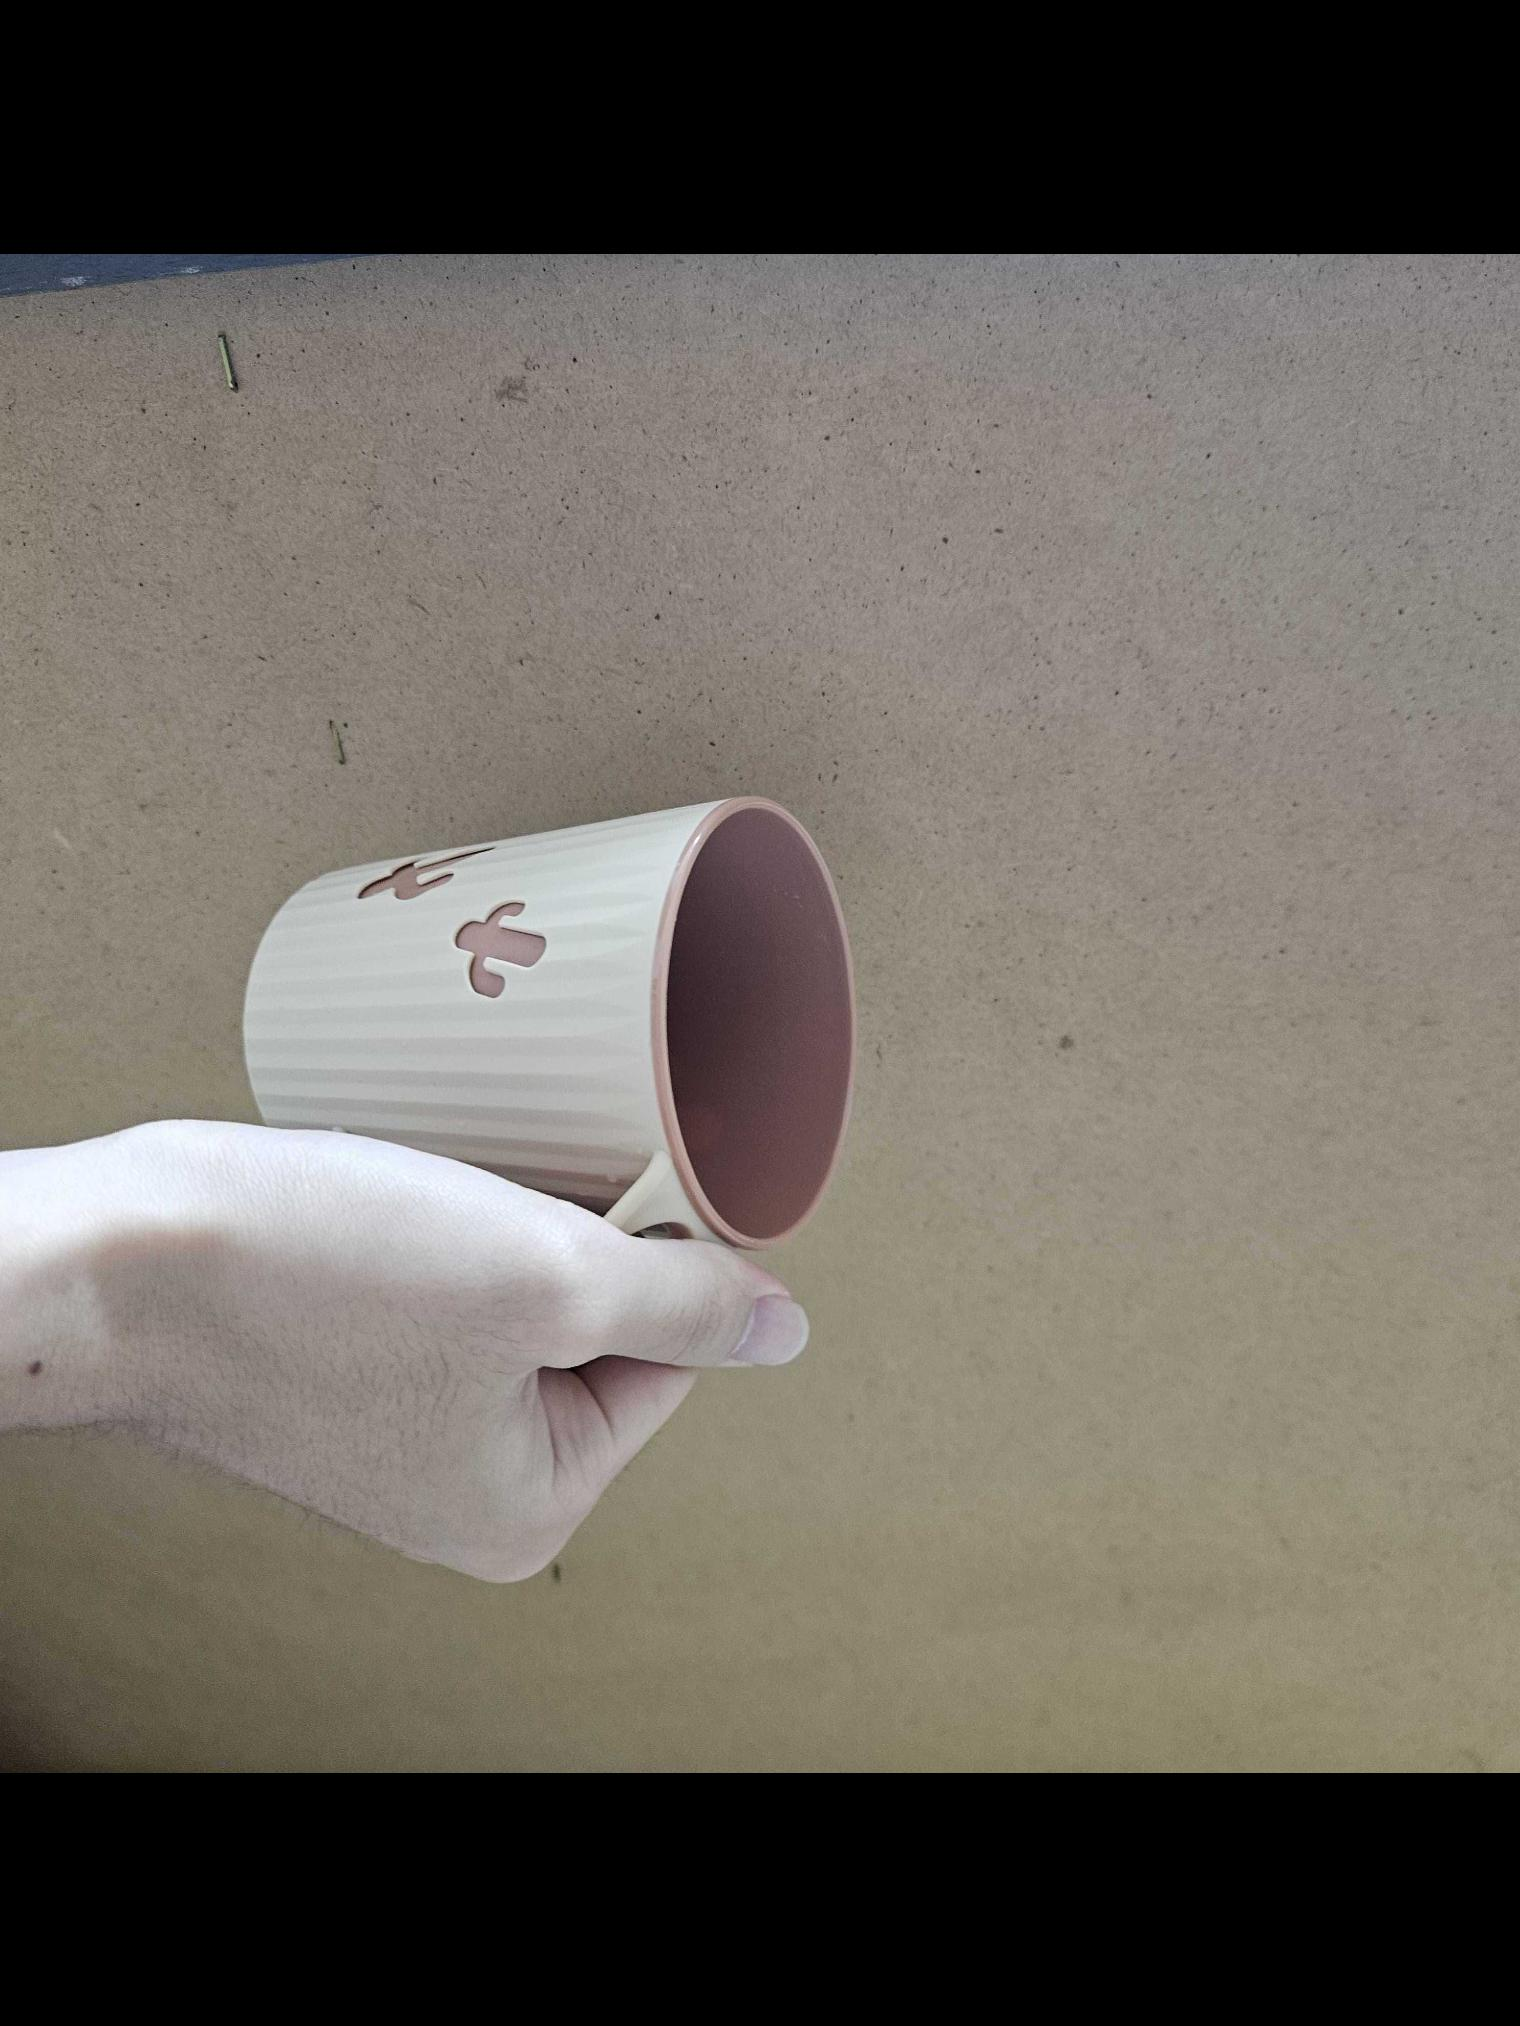cup: (0, 782, 865, 1589)
